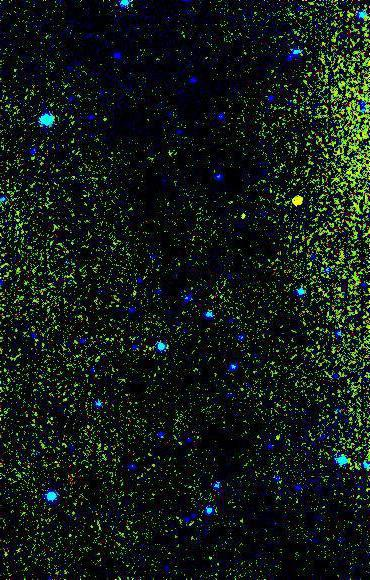star: (230, 198, 260, 228)
